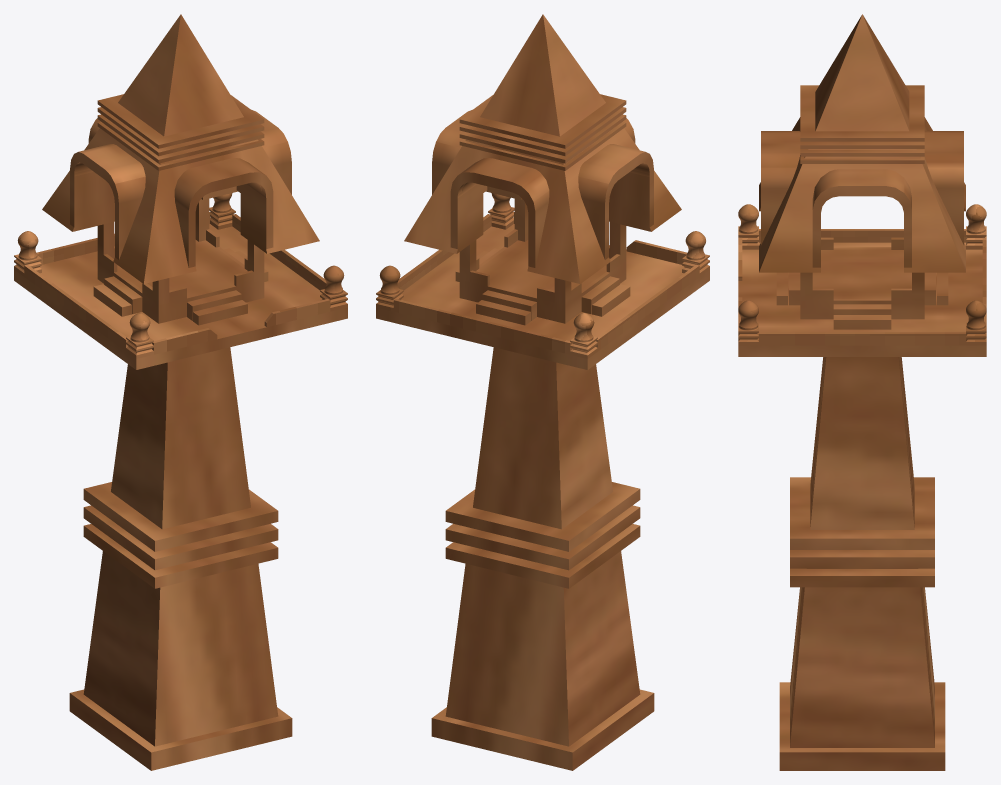
Rendered from Ghouse04.glb.
3 renders of one model, left to right at view 1: azimuth 30°, elevation 25°; view 2: azimuth 150°, elevation 25°; view 3: azimuth 270°, elevation 25°, orthographic.
Visible parts, largest first — view 1: colum01[64], house[278], Part40[341], Part53[717], sema3[646], Part53[729], Part53[723], Part53[720], sema3[675], Part53[726], sema3[588], sema3[617]; view 2: colum01[64], house[278], Part40[341], Part53[726], Part53[717], sema3[588], Part53[723], sema3[617], sema3[646], Part53[720], sema3[675]; view 3: colum01[64], house[278], Part40[341], Part53[723], Part53[717], sema3[675], sema3[617], sema3[588], sema3[646].
Part boxes in pixels (bbox=[...]): colum01[64]: bbox=[14, 224, 347, 770]; house[278]: bbox=[42, 14, 319, 305]; Part40[341]: bbox=[93, 229, 268, 325]; Part53[717]: bbox=[24, 264, 128, 351]; sema3[646]: bbox=[126, 313, 153, 358]; Part53[729]: bbox=[264, 299, 330, 326]; Part53[723]: bbox=[232, 214, 326, 290]; Part53[720]: bbox=[152, 328, 217, 354]; sema3[675]: bbox=[320, 265, 347, 311]; Part53[726]: bbox=[36, 212, 209, 264]; sema3[588]: bbox=[14, 231, 41, 276]; sema3[617]: bbox=[209, 193, 235, 229]; colum01[64]: bbox=[376, 224, 709, 770]; house[278]: bbox=[404, 14, 681, 305]; Part40[341]: bbox=[455, 229, 630, 325]; Part53[726]: bbox=[393, 299, 571, 354]; Part53[717]: bbox=[595, 264, 699, 351]; sema3[588]: bbox=[570, 313, 597, 358]; Part53[723]: bbox=[397, 214, 491, 290]; sema3[617]: bbox=[376, 265, 403, 311]; sema3[646]: bbox=[682, 231, 709, 276]; Part53[720]: bbox=[626, 240, 687, 264]; sema3[675]: bbox=[488, 193, 514, 229]; colum01[64]: bbox=[738, 242, 986, 770]; house[278]: bbox=[759, 14, 965, 300]; Part40[341]: bbox=[776, 237, 948, 329]; Part53[723]: bbox=[759, 332, 965, 345]; Part53[717]: bbox=[759, 229, 965, 242]; sema3[675]: bbox=[738, 300, 758, 345]; sema3[617]: bbox=[966, 300, 986, 345]; sema3[588]: bbox=[966, 204, 986, 249]; sema3[646]: bbox=[738, 204, 758, 249].
Size of the model in its own units: 0.006 by 0.0192 by 0.006.
12 materials, 12 textured.
